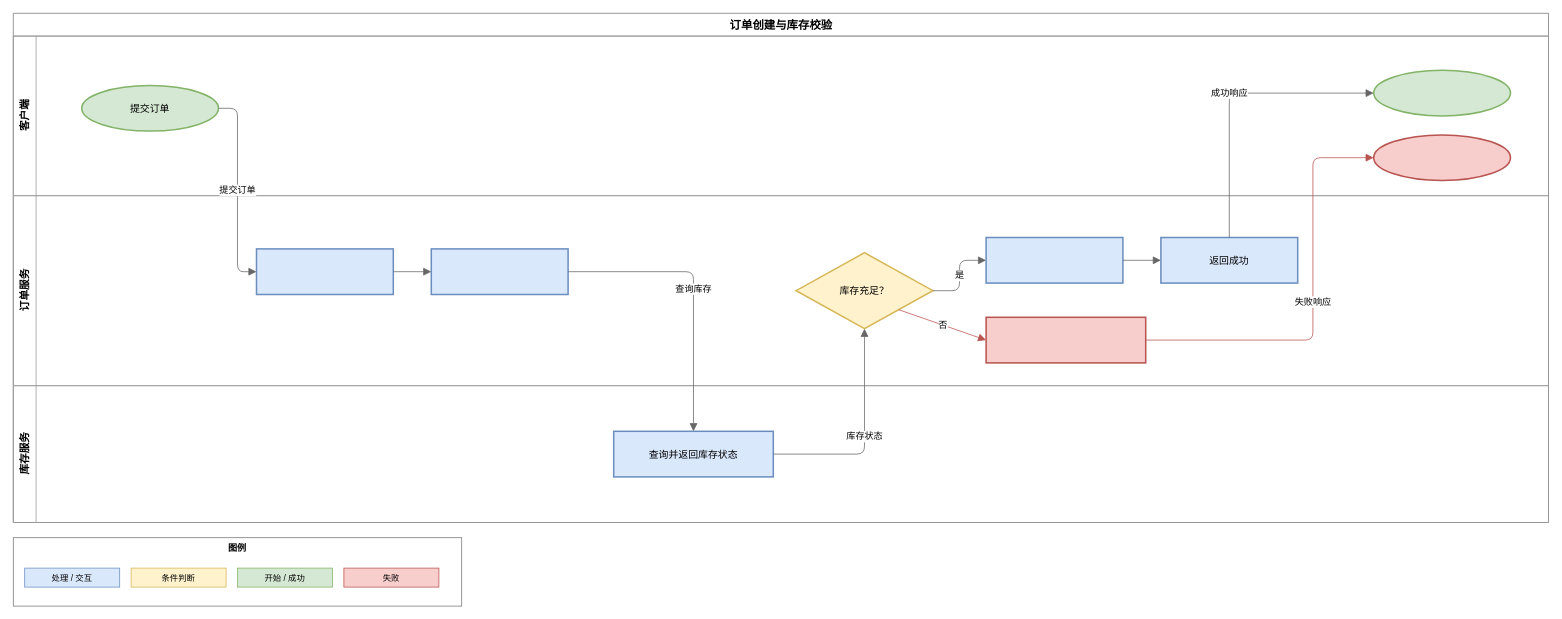
This 1562x619 diagram has some shape labels left out. The shapes that lost their labels are listed below. From the top down, each one's centre as x and y in pixels, then its label:
At point 1442,92: "展示成功".
At point 1442,157: "展示“库存不足”".
At point 324,271: "校验订单".
At point 499,271: "发起库存查询".
At point 1054,259: "创建订单".
At point 1065,339: "返回失败：库存不足".
